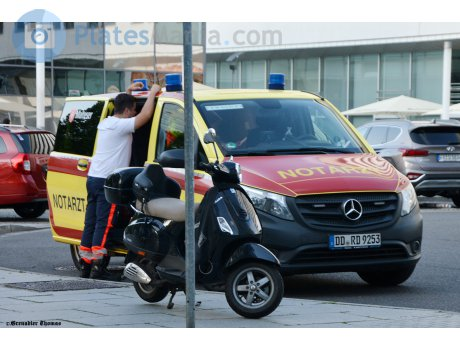License Plates: (326, 225, 380, 246)
